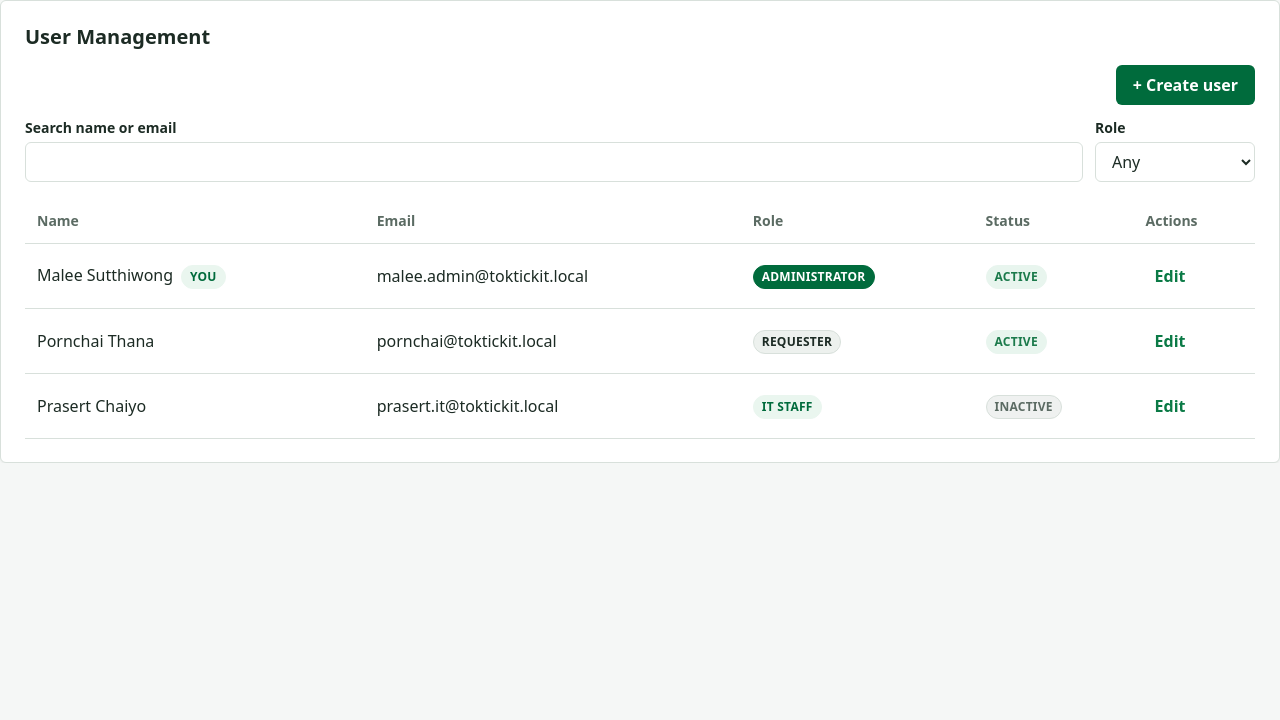
UI-21 the create panel (AC-30) › shows each missing field beneath itself before sending anything
Expected: the table is shown, [25,198,1255,438]
Click the button "+ Create user" at (1185, 85), box [1116,65,1255,105]
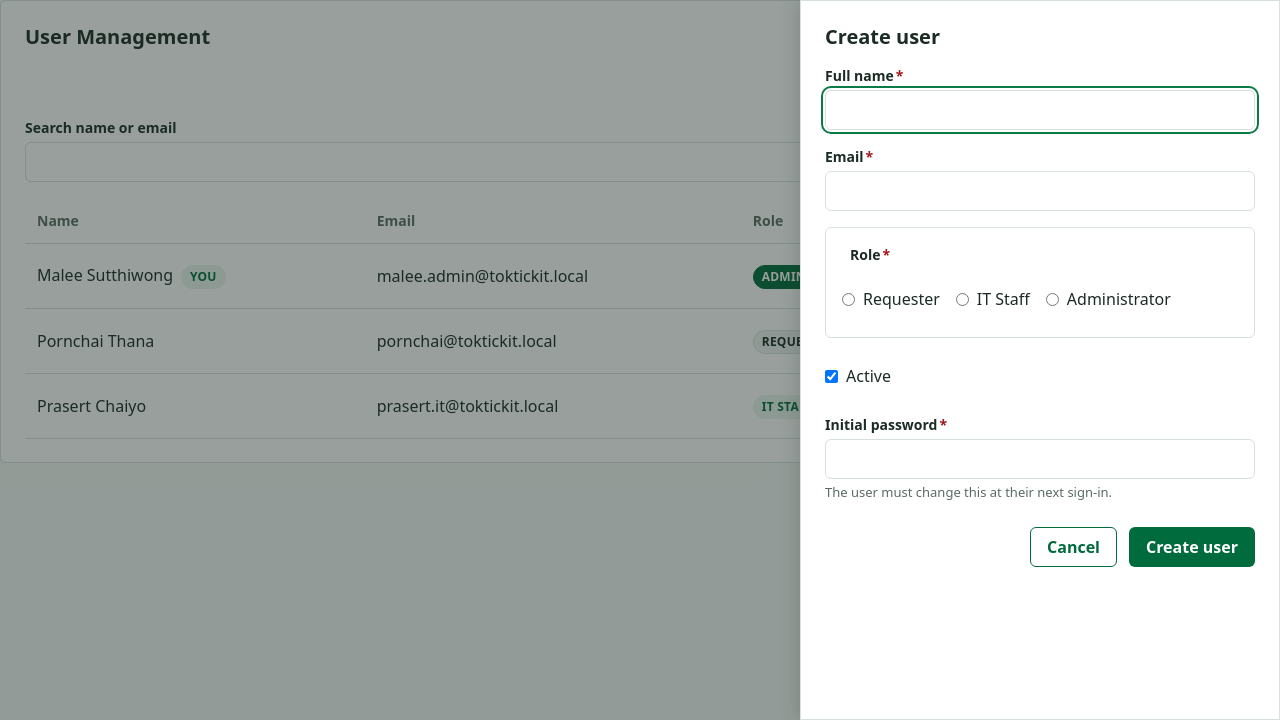
Click the button "Create user" at (1192, 546), box [1129,526,1255,566]
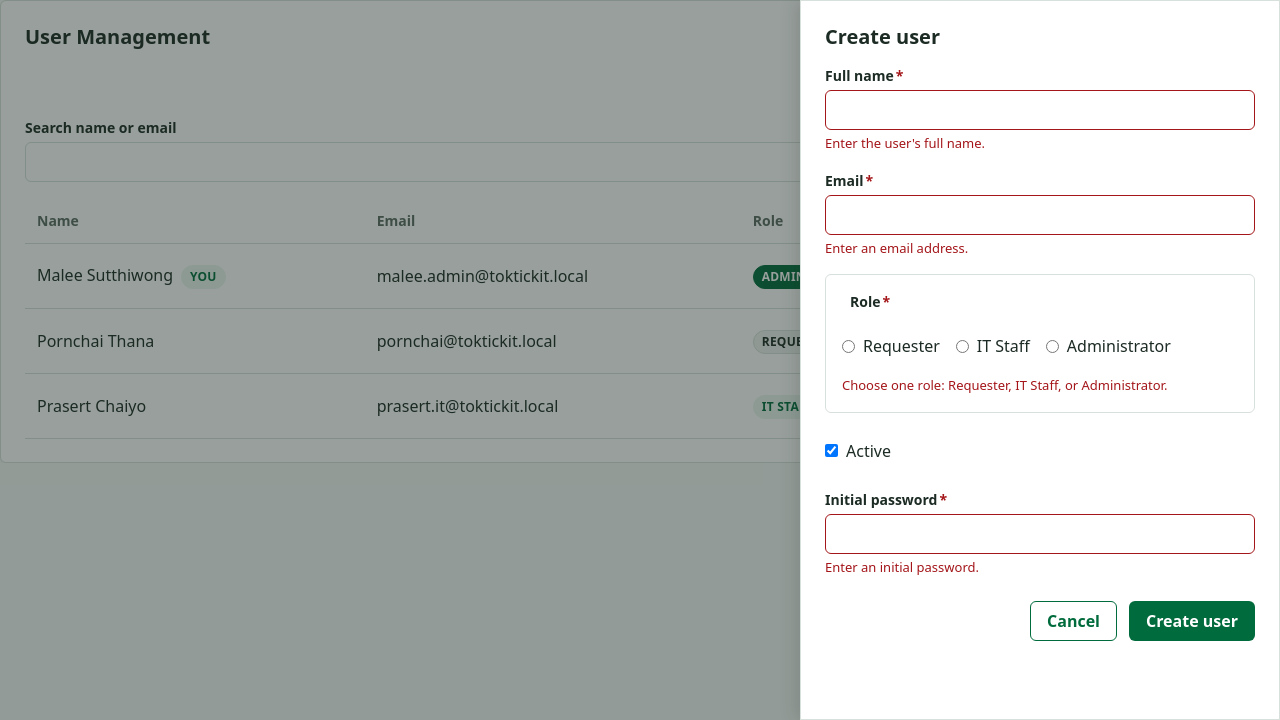
Expected: the text "Enter the user's full name." is shown, [825,134,985,152]
Expected: the text "Enter an email address." is shown, [825,238,968,256]
Expected: the text "Choose one role: Requester, IT Staff, or Administrator." is shown, [842,376,1167,394]
